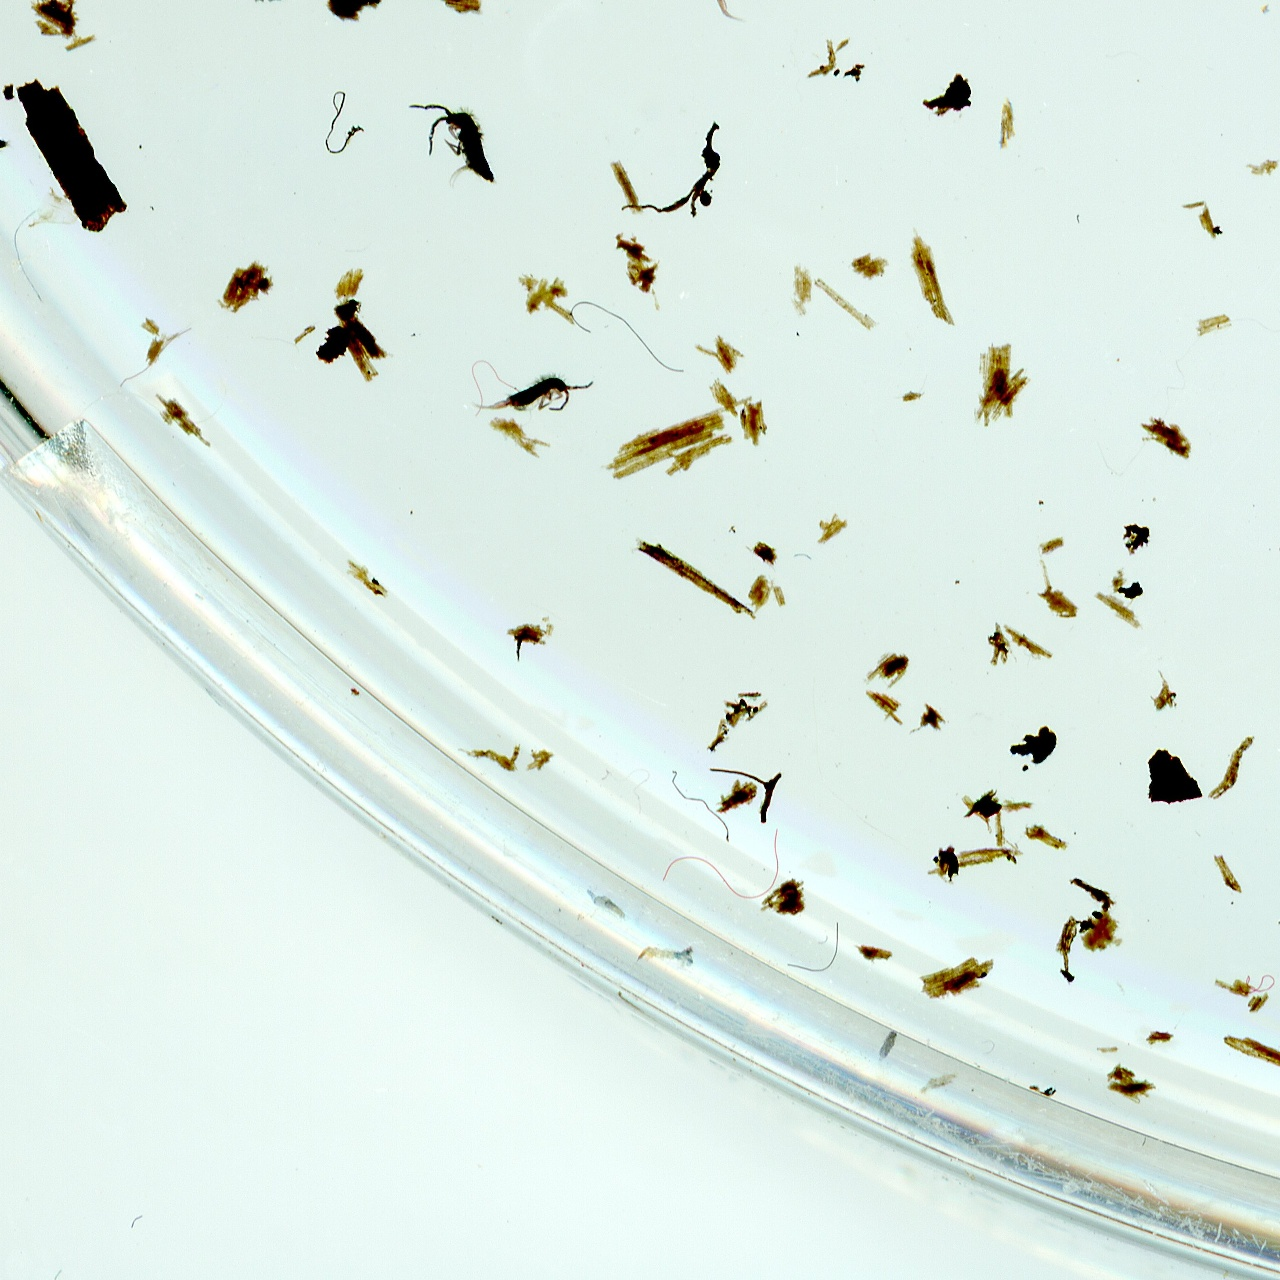arthropod: (402, 98, 504, 193), (467, 366, 597, 420), (652, 0, 760, 48)
